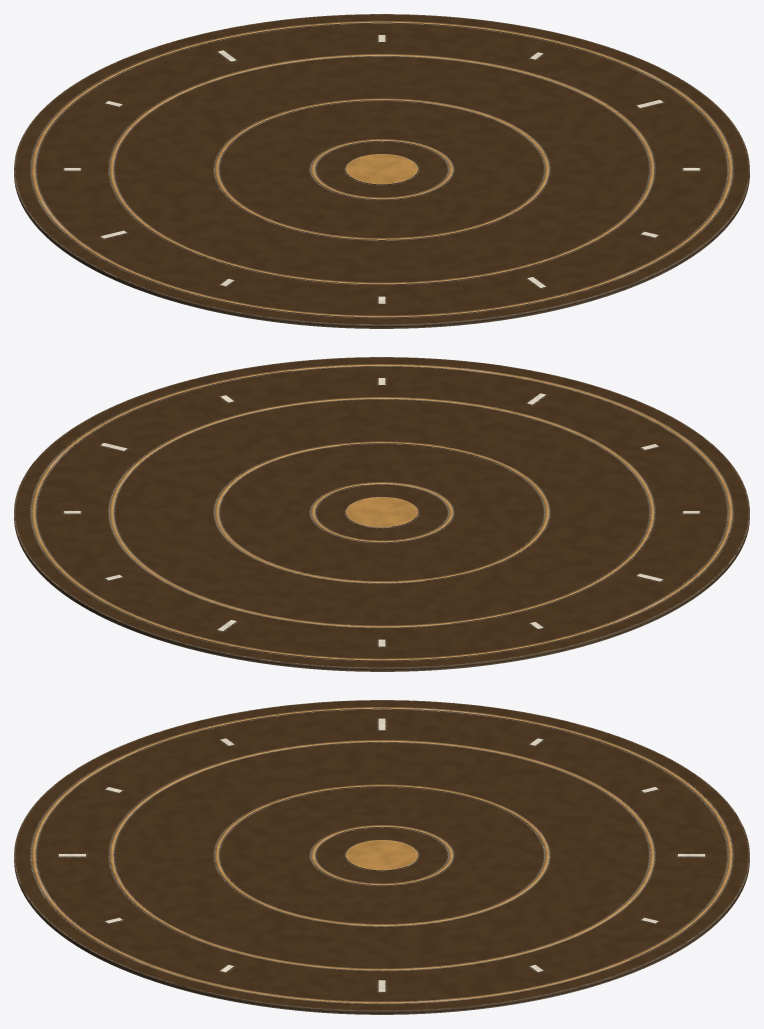
Rendered from FT_BellFloor.glb.
3 views of the same model, one above another, from view 1: azimuth 30°, elevation 25°; view 2: azimuth 150°, elevation 25°; view 3: azimuth 270°, elevation 25° (orthographic).
Visible parts, largest first — view 1: FT_BellFloor; view 2: FT_BellFloor; view 3: FT_BellFloor.
Boxes of the visible parts, box(x1,y1,x2,y2) form: FT_BellFloor: box(14, 14, 749, 328); FT_BellFloor: box(14, 357, 749, 671); FT_BellFloor: box(14, 700, 749, 1014).
Bounding box in the file's own units: 24.5 × 0.155 × 24.5.
Materials: 3 (3 with a texture image).
